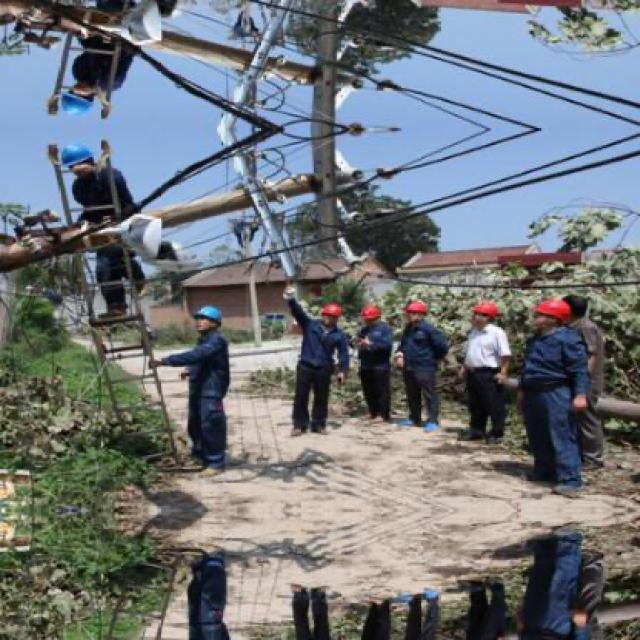helmet: (60, 143, 97, 179), (531, 298, 575, 328), (60, 82, 97, 117), (191, 302, 223, 336), (469, 296, 498, 330), (317, 299, 341, 327), (404, 298, 428, 326), (360, 302, 382, 328)
